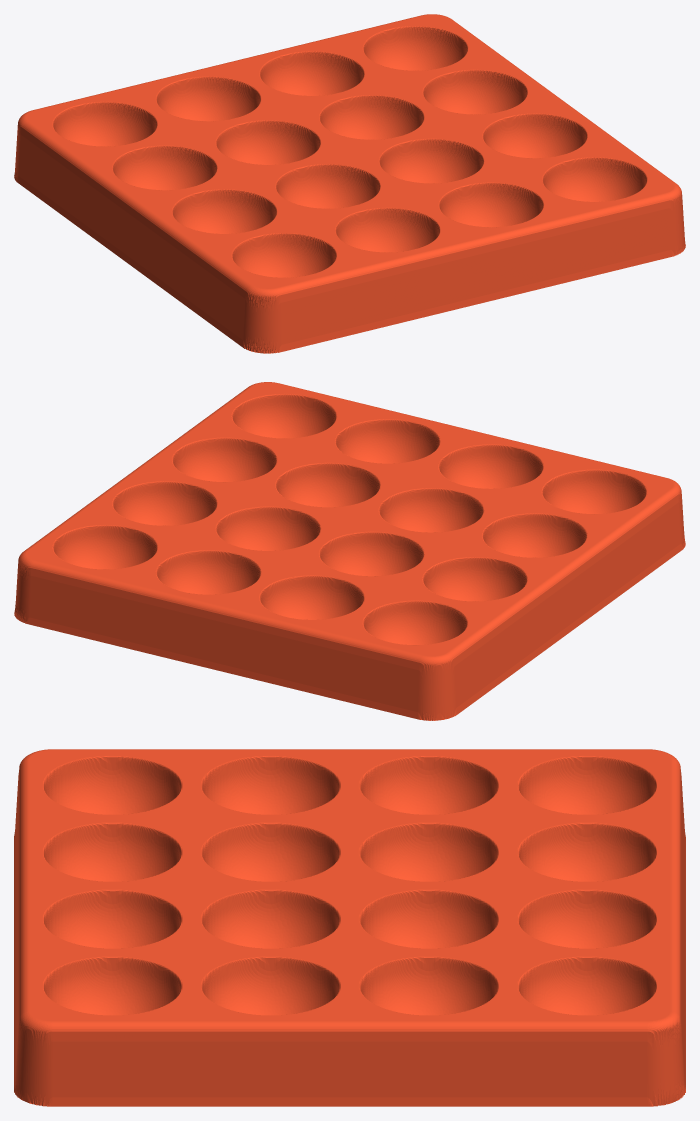
The model's file is mold.glb.
The picture shows the model from 3 angles, top to bottom: view 1: azimuth 30°, elevation 25°; view 2: azimuth 150°, elevation 25°; view 3: azimuth 270°, elevation 25°; orthographic projection. The views are drawn at different scales.
Parts seen in each view (by area): view 1: geometry_0; view 2: geometry_0; view 3: geometry_0.
Boxes of the visible parts, bbox=[...] form: geometry_0: bbox=[14, 14, 685, 353]; geometry_0: bbox=[14, 382, 685, 720]; geometry_0: bbox=[14, 749, 685, 1106].
Bounding box in the file's own units: 0.1569 × 0.0204 × 0.1569.
